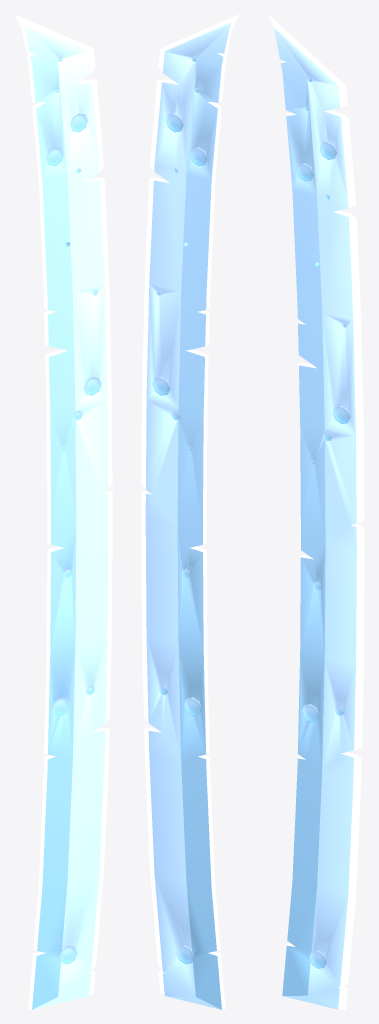
Rendered from steel_blade_bubbles_058.glb.
The picture shows the model from 3 angles, left to right: view 1: azimuth 30°, elevation 25°; view 2: azimuth 150°, elevation 25°; view 3: azimuth 330°, elevation 25°; orthographic projection. The views are drawn at different scales.
Visible parts, largest first — view 1: steel_blade_bubbles.058; view 2: steel_blade_bubbles.058; view 3: steel_blade_bubbles.058.
Boxes of the visible parts, left/top/right/bottom form: steel_blade_bubbles.058: left=14, top=14, right=112, bottom=1009; steel_blade_bubbles.058: left=141, top=14, right=239, bottom=1009; steel_blade_bubbles.058: left=268, top=14, right=364, bottom=1009.
Size of the model in its own units: 1.22 by 11.77 by 0.0749.
1 material, 1 textured.
